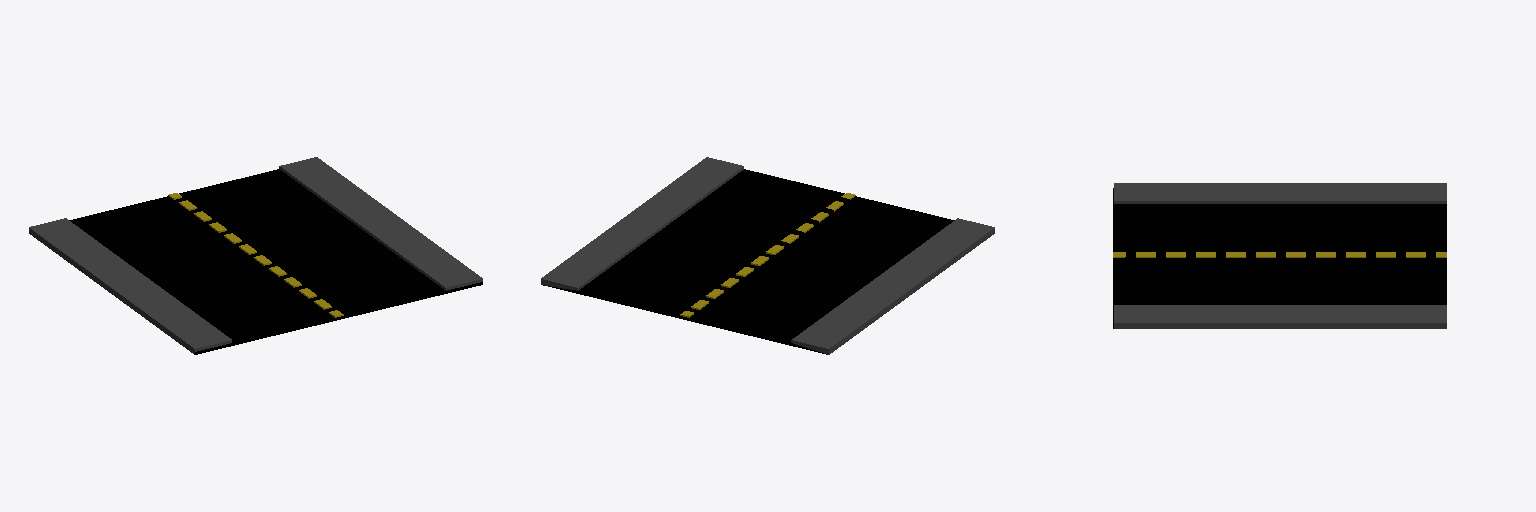
Rendered from road1.obj.
3 renders of one model, left to right at view 1: azimuth 30°, elevation 25°; view 2: azimuth 150°, elevation 25°; view 3: azimuth 270°, elevation 25°, orthographic.
Parts seen in each view (by area): view 1: road1; view 2: road1; view 3: road1.
Boxes of the visible parts, x1,y1,x2,y2 form: road1: [29, 157, 482, 354]; road1: [541, 157, 994, 354]; road1: [1113, 183, 1446, 328].
Bounding box in the file's own units: 1 × 0.02 × 1.